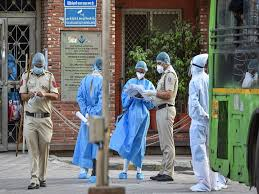mask: (29, 57, 46, 76), (134, 62, 148, 84), (189, 58, 206, 76), (155, 56, 171, 75)
